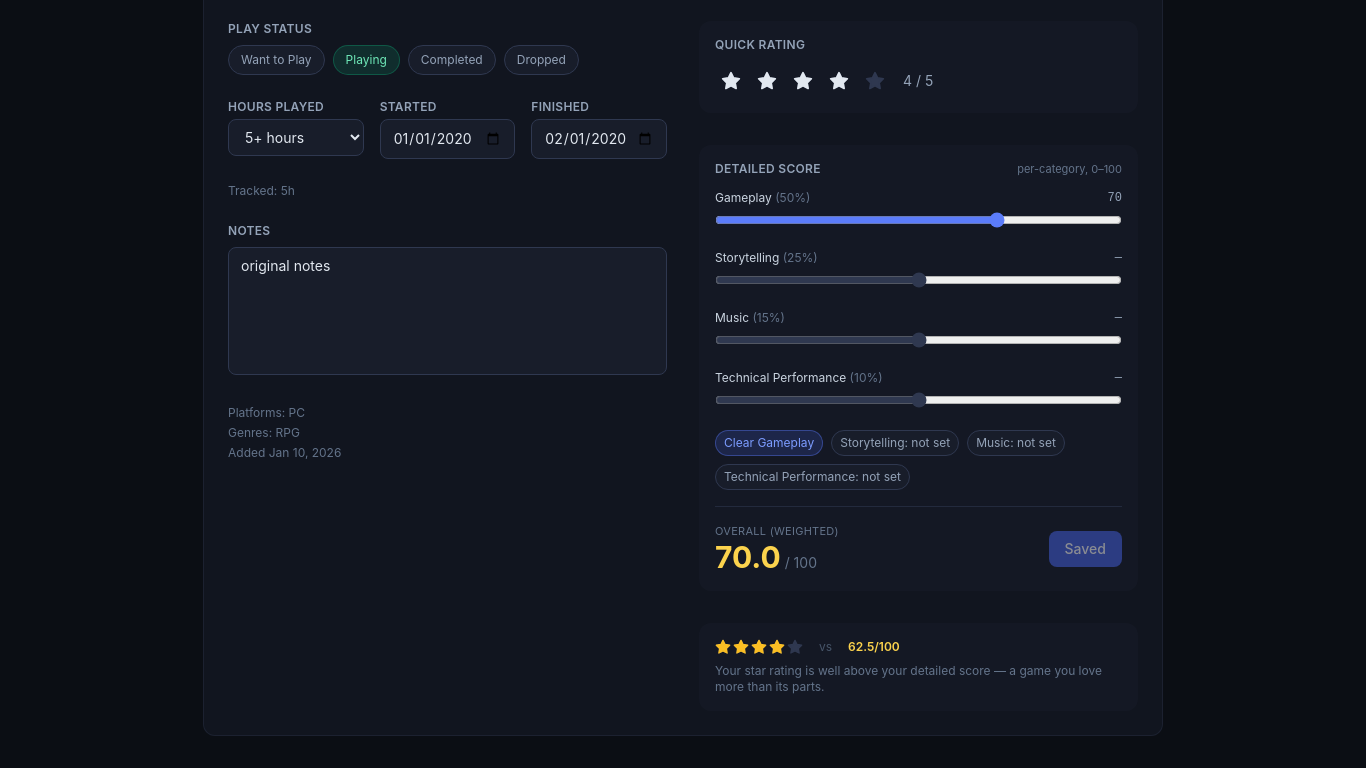
it: GameDetail — detailed score › clears a category back to unset via its chip
The image size is (1366, 768).
(page scrolled)
Click the button "Clear Gameplay" at (769, 442), box [715, 430, 823, 456]
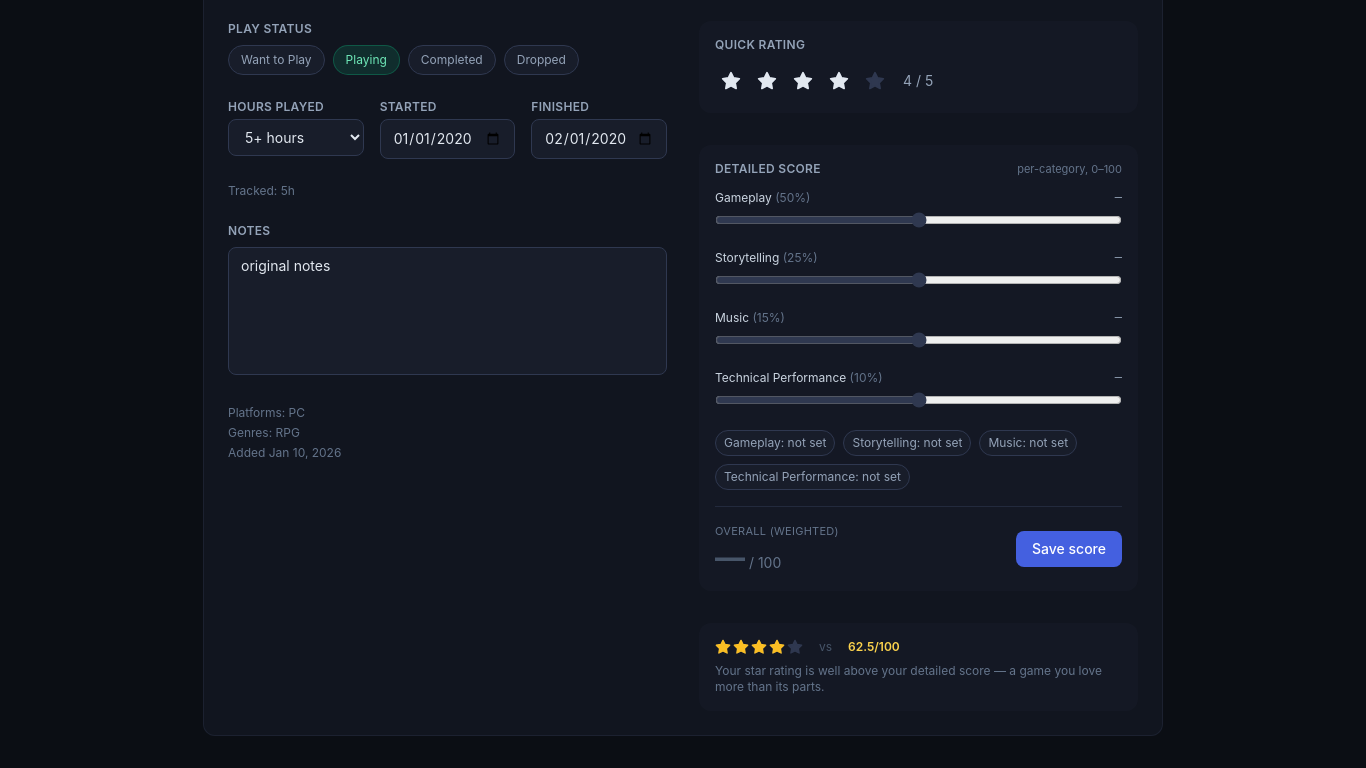
Expected: the text "—" is shown 5 times, [1115, 190, 1122, 206]; [1115, 250, 1122, 266]; [1115, 310, 1122, 326]; [1115, 370, 1122, 386]; [715, 539, 781, 575]
Result: the button "Gameplay: not set" is shown at [715, 430, 835, 456]
